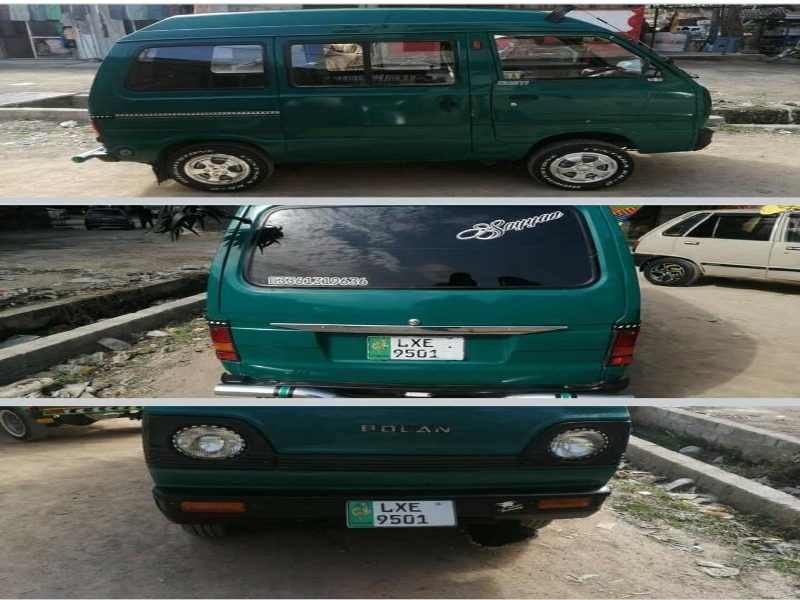License Plate: (341, 494, 466, 537), (364, 331, 471, 369)
